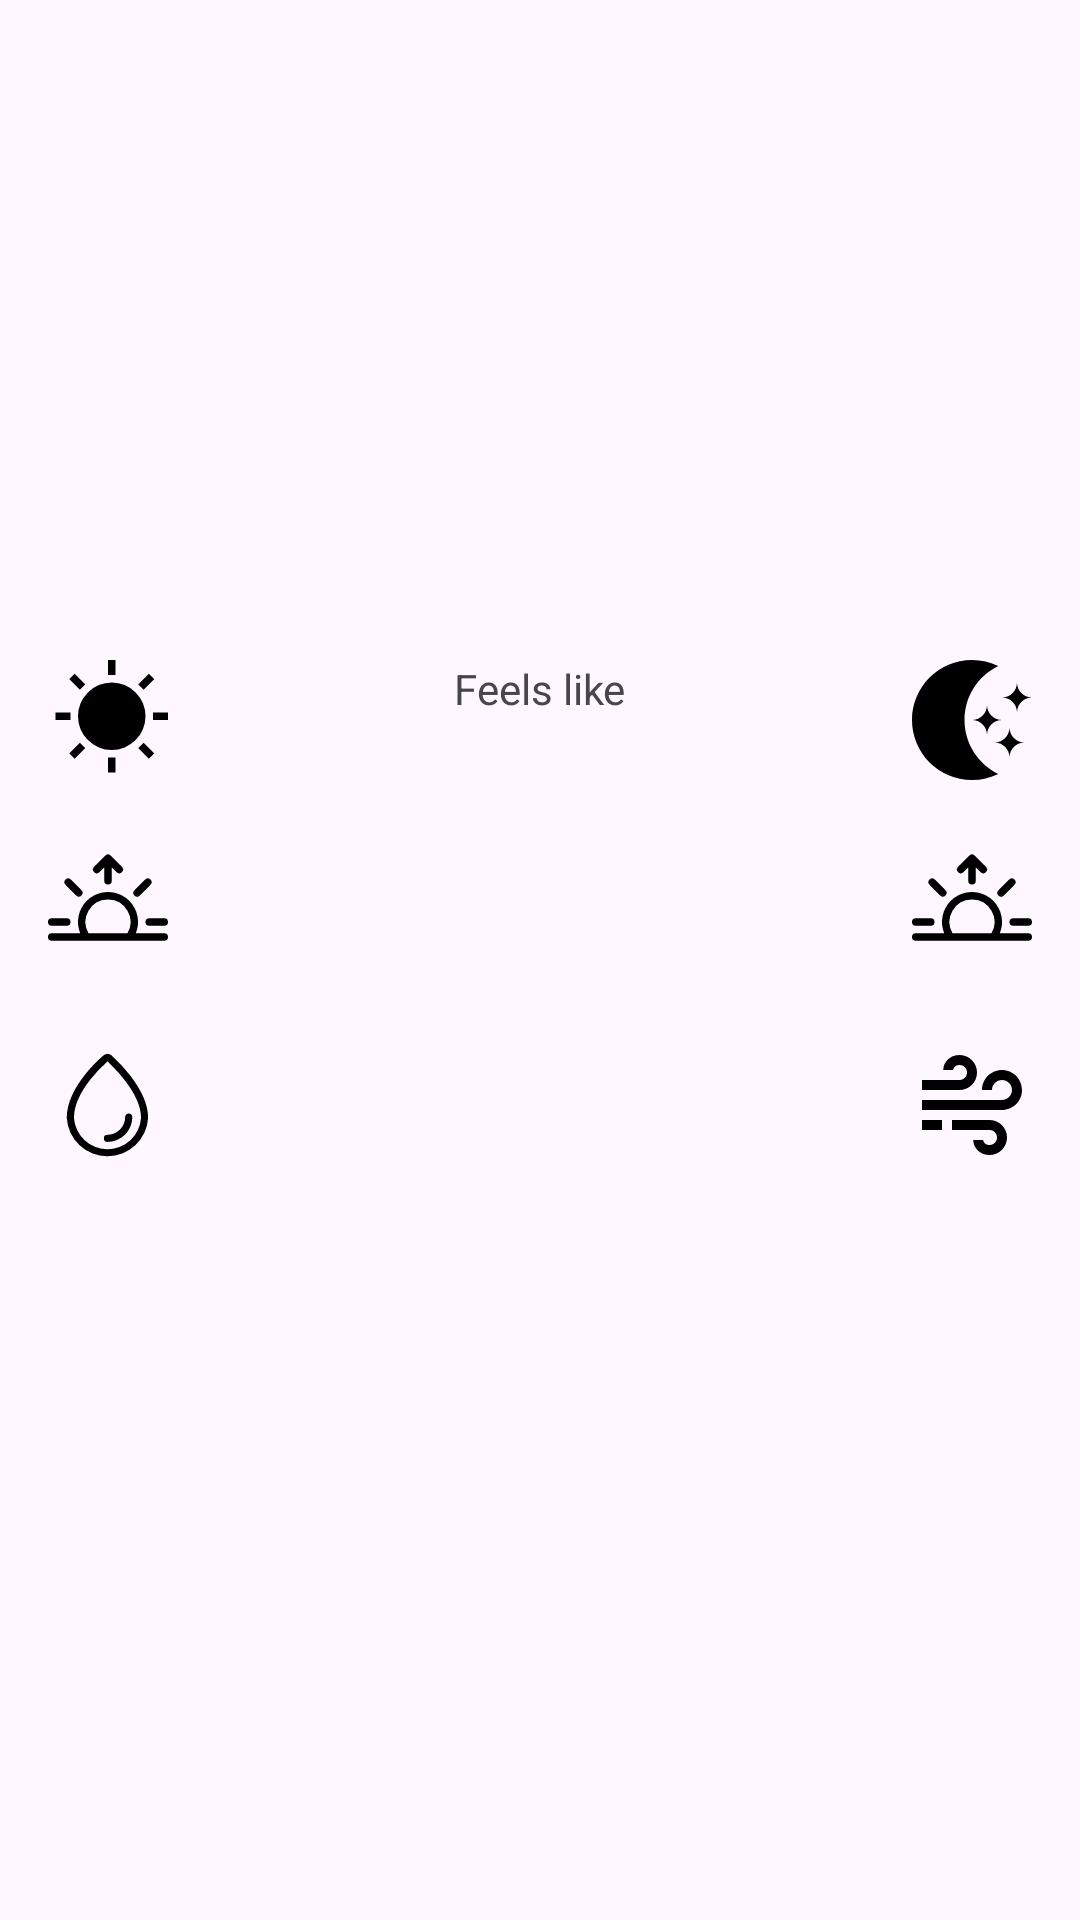

Where icons sit on this 1080px x 1920px app screen, as {"left": x1, "top": y1, "right": x2, "bottom": y2}:
day: {"left": 55, "top": 660, "right": 168, "bottom": 773}
humidity: {"left": 66, "top": 1053, "right": 148, "bottom": 1157}
night: {"left": 912, "top": 660, "right": 1031, "bottom": 780}
sunrise: {"left": 48, "top": 854, "right": 168, "bottom": 941}, {"left": 912, "top": 854, "right": 1032, "bottom": 941}
wind: {"left": 922, "top": 1055, "right": 1022, "bottom": 1155}
